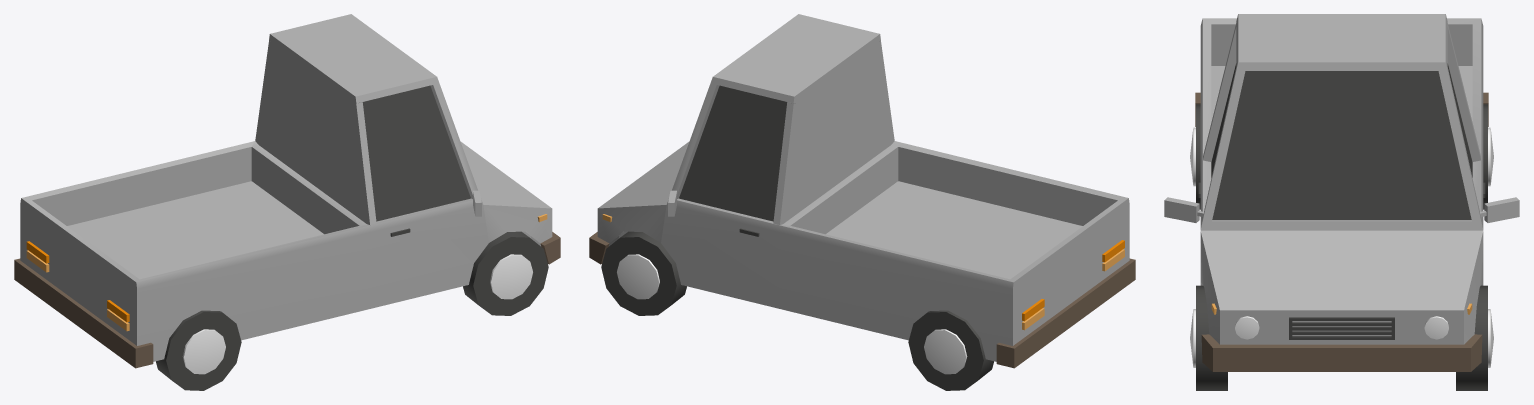
The model's file is truck_gray.fbx.
The picture shows the model from 3 angles, left to right: view 1: azimuth 30°, elevation 25°; view 2: azimuth 150°, elevation 25°; view 3: azimuth 270°, elevation 25°; orthographic projection. The views are drawn at different scales.
Visible parts, largest first — view 1: truck_gray; view 2: truck_gray; view 3: truck_gray.
Part boxes in pixels (x1,y1,x2,y2): truck_gray: (14, 14, 560, 390); truck_gray: (589, 14, 1135, 390); truck_gray: (1164, 14, 1519, 390).
Bounding box in the file's own units: 268 × 142 × 158.
1 material, 1 textured.
